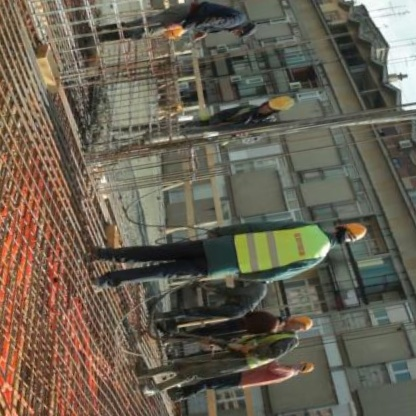vest: (231, 218, 337, 282), (231, 328, 304, 370)
yellow: (336, 214, 374, 247), (264, 91, 305, 116), (288, 310, 316, 334)
